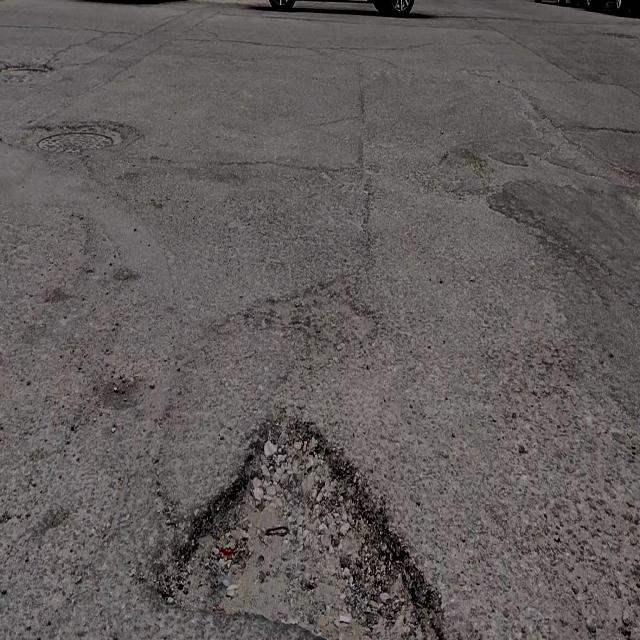Potholes: (164, 418, 441, 640)
